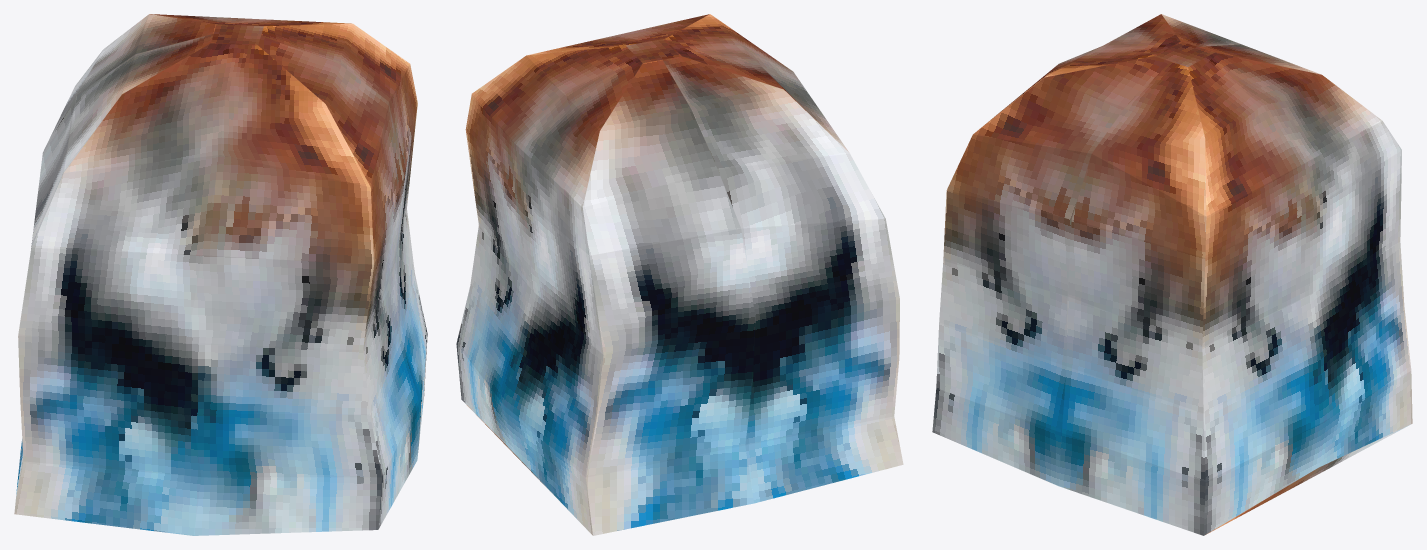
The picture shows the model from 3 angles, left to right: view 1: azimuth 30°, elevation 25°; view 2: azimuth 150°, elevation 25°; view 3: azimuth 270°, elevation 25°; orthographic projection. The views are drawn at different scales.
Parts seen in each view (by area): view 1: SPLICE_2; view 2: SPLICE_2; view 3: SPLICE_2.
Boxes of the visible parts, x1,y1,x2,y2 form: SPLICE_2: (14,14,427,535); SPLICE_2: (456,14,903,535); SPLICE_2: (932,14,1412,535).
Bounding box in the file's own units: 1.12 × 1 × 1.11.
Materials: 1 (1 with a texture image).
